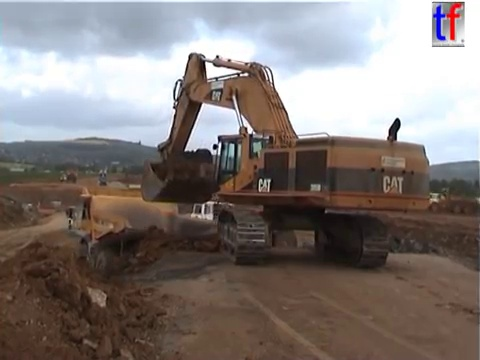excavator: (138, 50, 433, 271)
truck: (64, 186, 223, 281), (185, 193, 300, 256), (423, 191, 480, 215), (64, 169, 77, 183), (57, 170, 69, 182)
worker: (65, 212, 75, 232)
